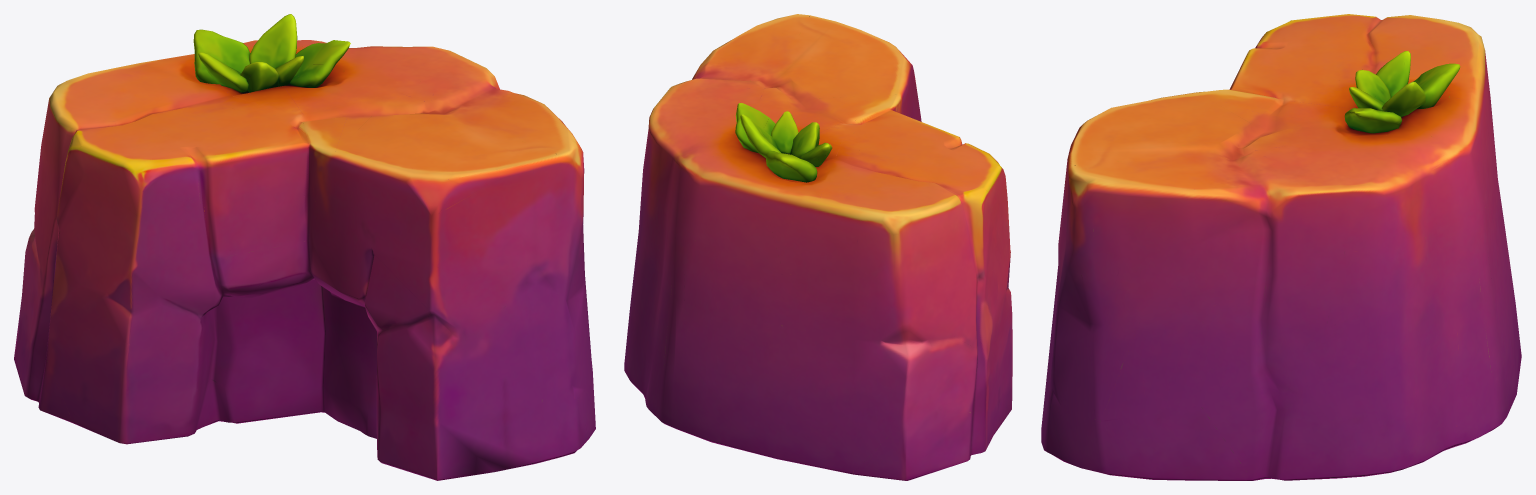
Rendered from Mountain_Asset_2.glb.
3 renders of one model, left to right at view 1: azimuth 30°, elevation 25°; view 2: azimuth 150°, elevation 25°; view 3: azimuth 270°, elevation 25°, orthographic. The views are drawn at different scales.
Parts seen in each view (by area): view 1: geometry_0; view 2: geometry_0; view 3: geometry_0.
Part boxes in pixels (x1=…): geometry_0: x1=14, y1=14, x2=595, y2=480; geometry_0: x1=624, y1=14, x2=1012, y2=480; geometry_0: x1=1041, y1=14, x2=1521, y2=480.
Bounding box in the file's own units: 0.959 × 0.7095 × 0.9565.
1 material, 1 textured.
